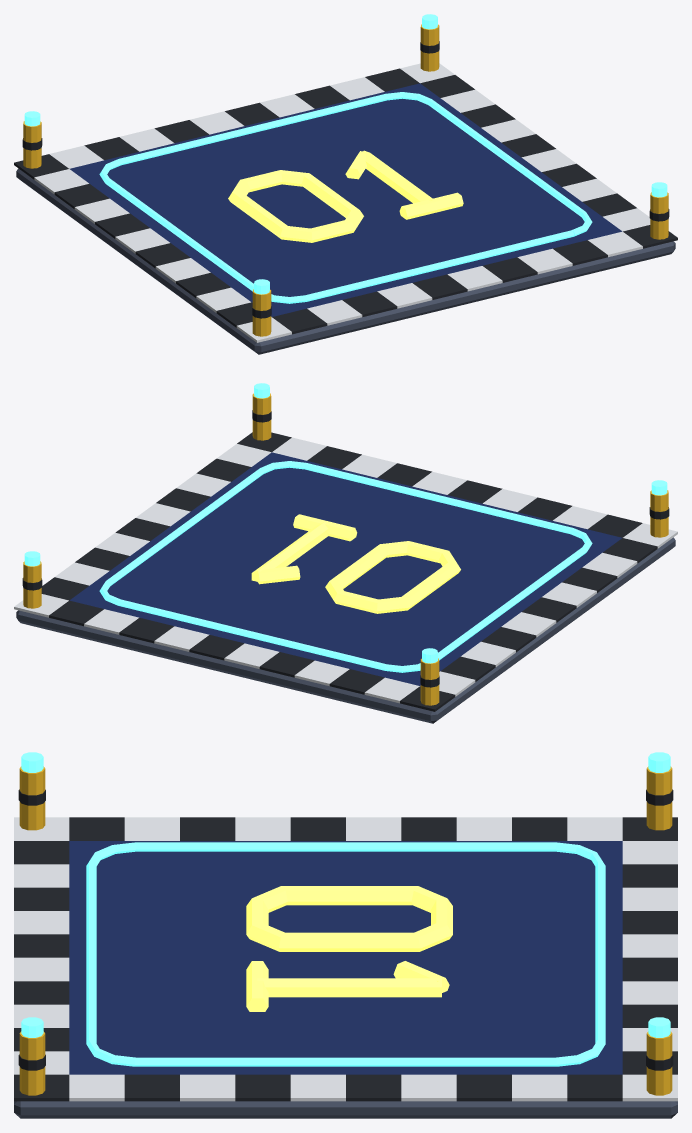
Rendered from JoinPad_01.fbx.
3 views of the same model, one above another, from view 1: azimuth 30°, elevation 25°; view 2: azimuth 150°, elevation 25°; view 3: azimuth 270°, elevation 25° (orthographic). The views are drawn at different scales.
Parts seen in each view (by area): view 1: JoinPad_01, Neon_Cyan, Neon_Yellow; view 2: JoinPad_01, Neon_Cyan, Neon_Yellow; view 3: JoinPad_01, Neon_Cyan, Neon_Yellow.
Part boxes in pixels (x1,y1,x2,y2): JoinPad_01: (14,24,677,354); Neon_Cyan: (24,14,667,303); Neon_Yellow: (228,150,463,242); JoinPad_01: (14,393,677,723); Neon_Cyan: (24,383,667,672); Neon_Yellow: (251,514,460,613); JoinPad_01: (14,766,677,1118); Neon_Cyan: (21,752,670,1066); Neon_Yellow: (246,886,452,1011).
Bounding box in the file's own units: 18 × 2.75 × 18.
3 materials, 1 textured.
